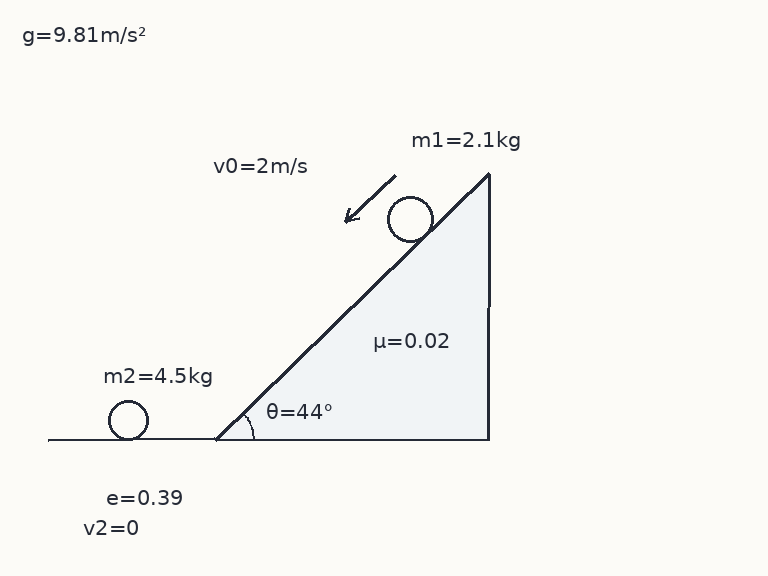ball: (385, 194, 435, 244), (106, 398, 150, 442)
ramp: (212, 173, 491, 442)
